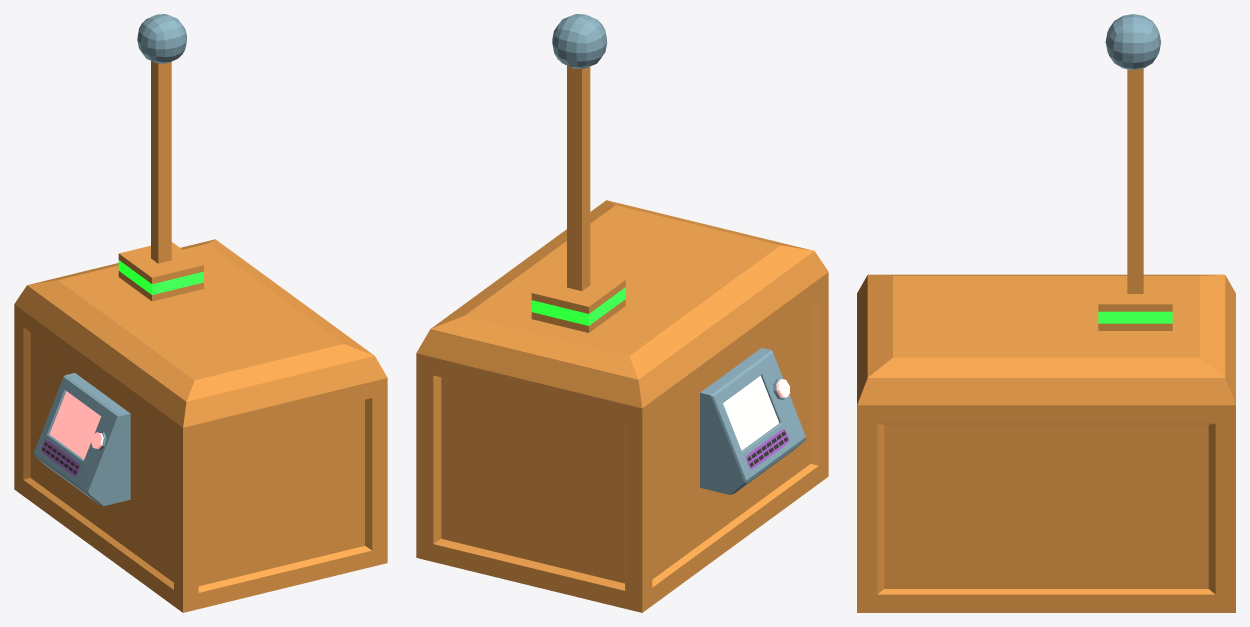
File: ordi_final.glb
The picture shows the model from 3 angles, left to right: view 1: azimuth 30°, elevation 25°; view 2: azimuth 150°, elevation 25°; view 3: azimuth 270°, elevation 25°; orthographic projection. The views are drawn at different scales.
Parts seen in each view (by area): view 1: Cube, Screen, ElectricalHook, Light; view 2: Cube, Screen, ElectricalHook, Light; view 3: Cube, ElectricalHook, Light.
Part boxes in pixels (<box>): Cube: <box>14,61,387,612</box>; Screen: <box>34,373,130,505</box>; ElectricalHook: <box>137,14,186,63</box>; Light: <box>118,260,203,294</box>; Cube: <box>416,65,828,612</box>; Screen: <box>700,347,805,494</box>; ElectricalHook: <box>552,14,607,68</box>; Light: <box>531,287,625,325</box>; Cube: <box>857,68,1235,612</box>; ElectricalHook: <box>1105,14,1160,70</box>; Light: <box>1098,311,1172,323</box>.
Size of the model in its own units: 2.04 by 3.88 by 2.47.
